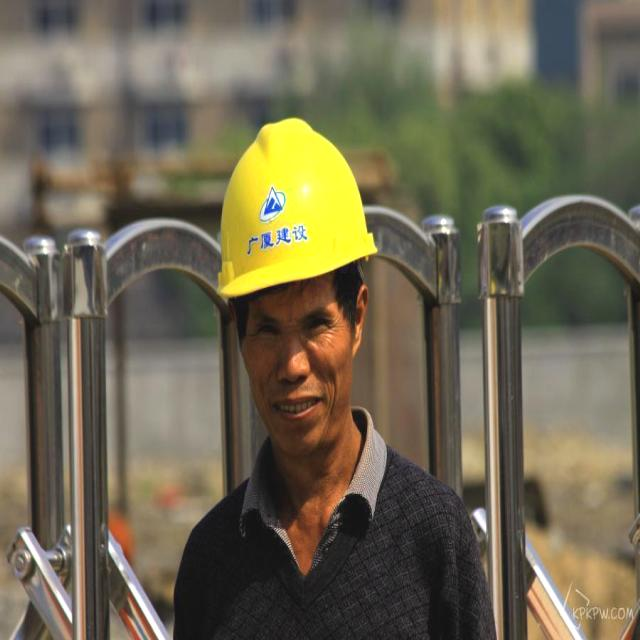face_nomask: (237, 288, 358, 455)
head_helmet: (215, 118, 377, 296)
person: (202, 123, 424, 638)
